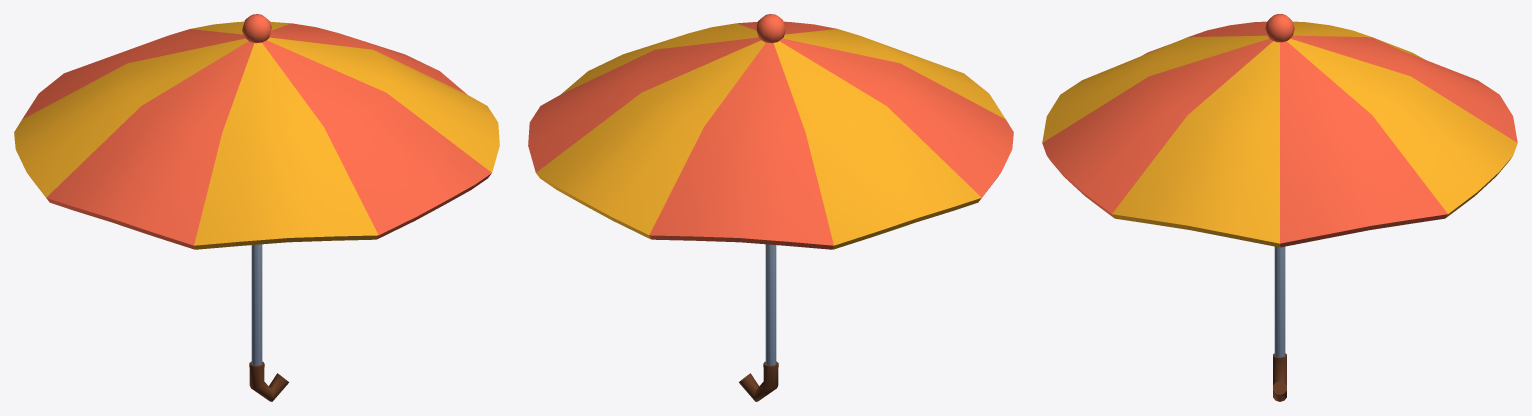
The model's file is acc_umbrella.glb.
3 renders of one model, left to right at view 1: azimuth 30°, elevation 25°; view 2: azimuth 150°, elevation 25°; view 3: azimuth 270°, elevation 25°, orthographic. The views are drawn at different scales.
Visible parts, largest first — view 1: Accessory; view 2: Accessory; view 3: Accessory.
Part boxes in pixels (<box>): Accessory: <box>14,14,499,401</box>; Accessory: <box>528,14,1013,401</box>; Accessory: <box>1042,14,1517,401</box>.
Size of the model in its own units: 1.28 by 1.13 by 1.28.
